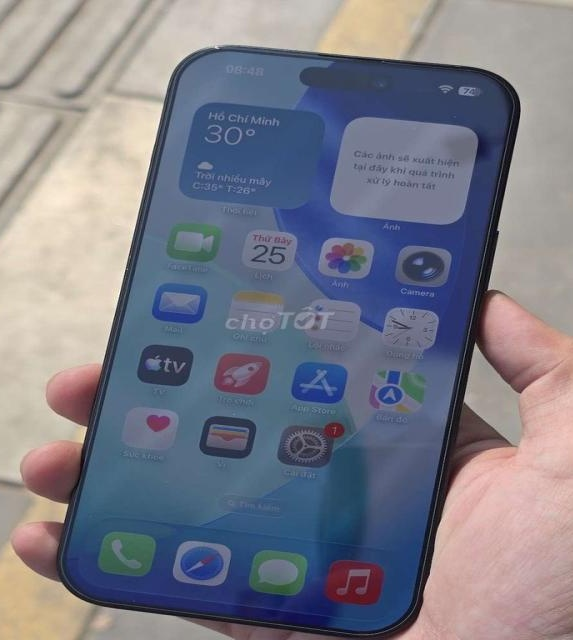scratch: (192, 38, 251, 67), (359, 49, 402, 78)
